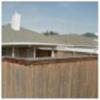chimneys: (10, 10, 21, 32)
